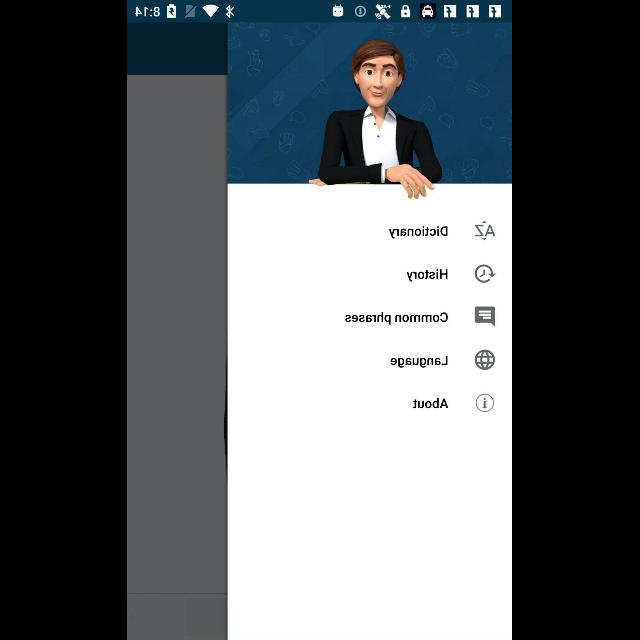icon: (476, 306, 496, 328), (475, 265, 497, 283), (476, 394, 496, 412)
image: (228, 23, 512, 199), (476, 350, 496, 370)
panel: (228, 22, 512, 640)
text: (346, 312, 448, 324), (389, 227, 448, 240), (391, 356, 449, 368), (407, 270, 449, 282), (476, 221, 496, 241), (413, 398, 449, 408)
uppertaskbar: (128, 1, 512, 23)
